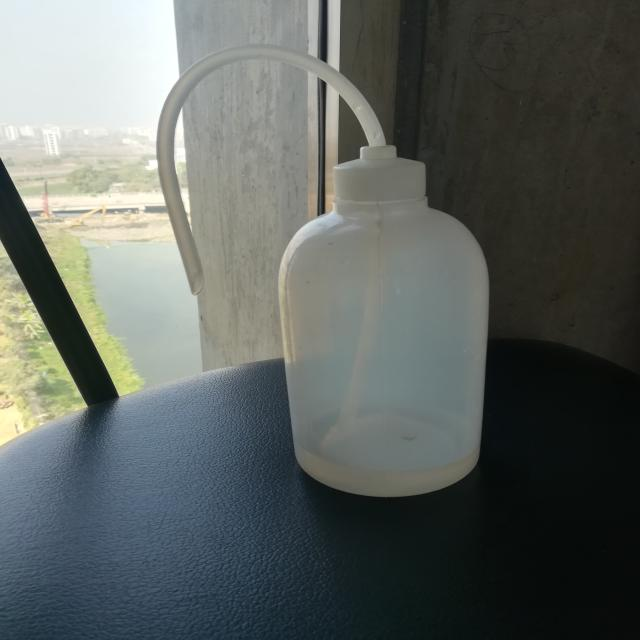Wash_Bottle: (116, 31, 522, 530)
